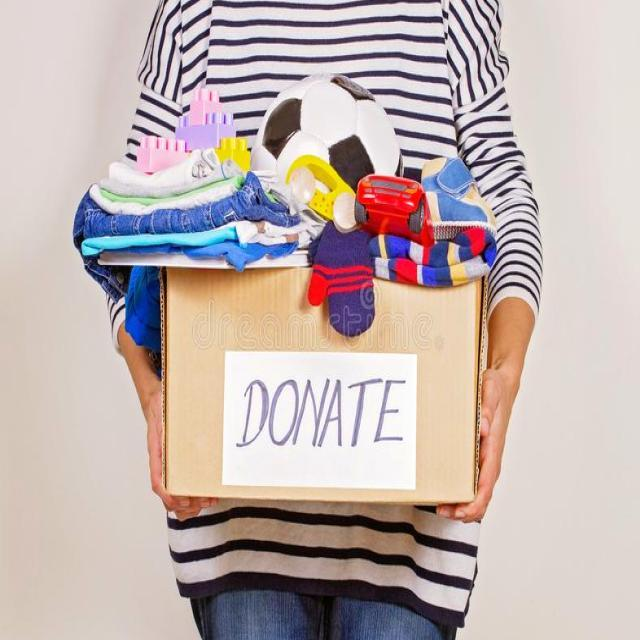clothes: (93, 134, 272, 274)
